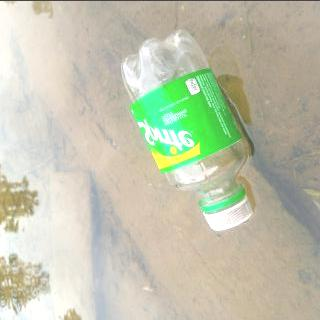bottle: (118, 27, 258, 232)
